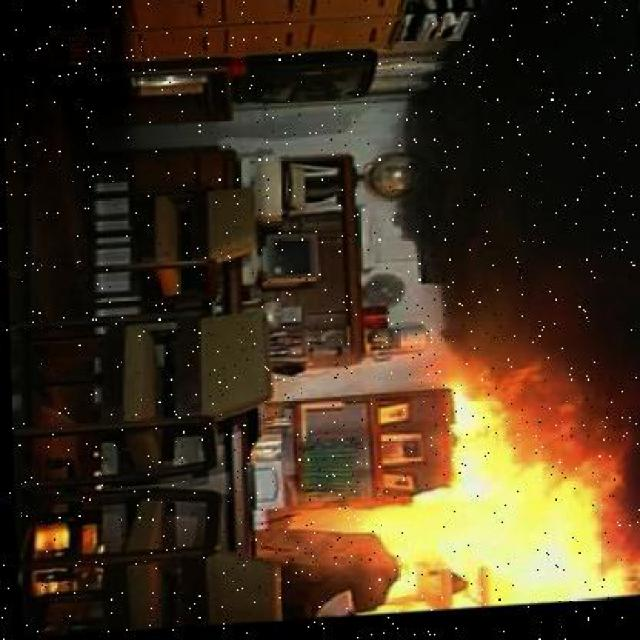fire: (361, 325, 593, 611), (393, 367, 639, 620)
